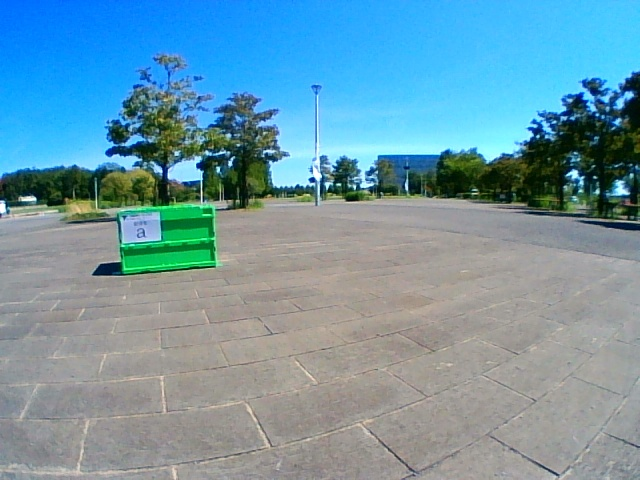green_box: (118, 204, 216, 274)
tag_a: (122, 215, 160, 241)
